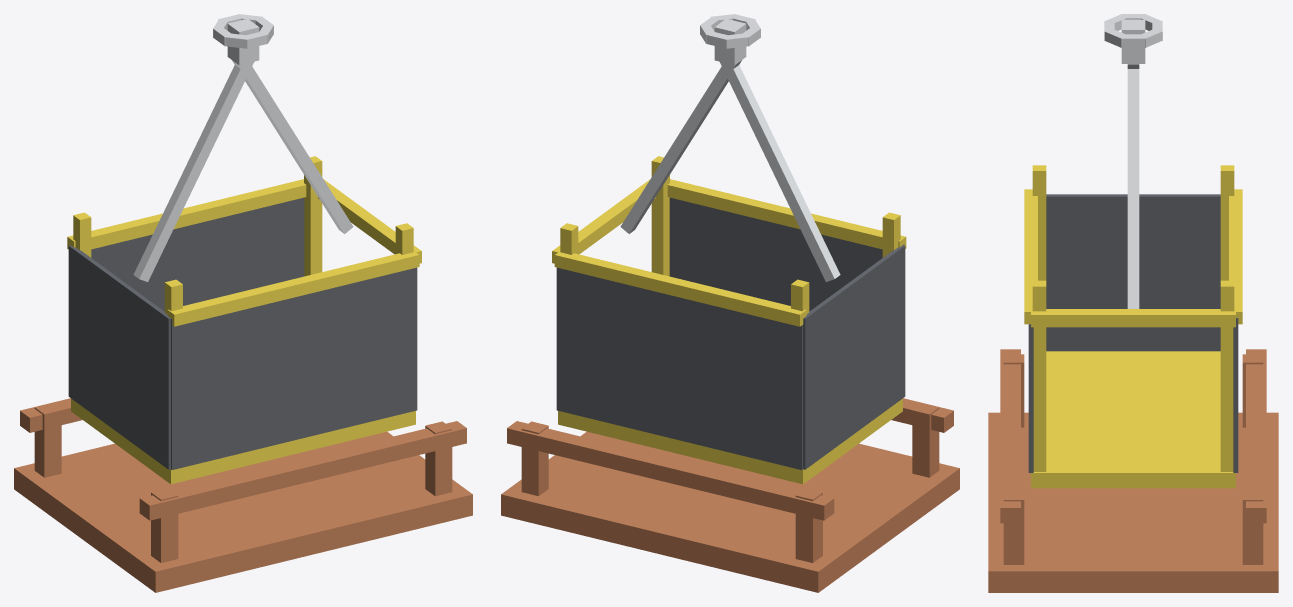
Rendered from shipyard-and-dry-dock-shipyard-and-dry-dock-man-basket-94b4d00d__37938.glb.
The picture shows the model from 3 angles, left to right: view 1: azimuth 30°, elevation 25°; view 2: azimuth 150°, elevation 25°; view 3: azimuth 270°, elevation 25°; orthographic projection. The views are drawn at different scales.
Parts seen in each view (by area): view 1: basket-cage/charcoal (×3), shipyard-and-dry-dock-man-basket-and-stillage, basket-cage/yellow (×6), basket-cage/steel (×3); view 2: basket-cage/charcoal (×3), shipyard-and-dry-dock-man-basket-and-stillage, basket-cage/yellow (×6), basket-cage/steel (×3); view 3: shipyard-and-dry-dock-man-basket-and-stillage, basket-cage/yellow (×8), basket-cage/charcoal (×3), basket-cage/steel (×2).
Boxes of the visible parts, box(x1,y1,x2,y2) form: basket-cage/charcoal (×3): box(68, 197, 417, 469); shipyard-and-dry-dock-man-basket-and-stillage: box(14, 398, 472, 592); basket-cage/yellow (×6): box(67, 156, 421, 484); basket-cage/steel (×3): box(133, 18, 353, 281); basket-cage/charcoal (×3): box(556, 197, 905, 469); shipyard-and-dry-dock-man-basket-and-stillage: box(501, 398, 959, 592); basket-cage/yellow (×6): box(552, 156, 906, 484); basket-cage/steel (×3): box(620, 18, 840, 281); shipyard-and-dry-dock-man-basket-and-stillage: box(988, 349, 1278, 592); basket-cage/yellow (×8): box(1024, 165, 1242, 488); basket-cage/charcoal (×3): box(1028, 194, 1238, 472); basket-cage/steel (×2): box(1121, 19, 1145, 308).
Bounding box in the file's own units: 2.2 × 3.16 × 1.7.
